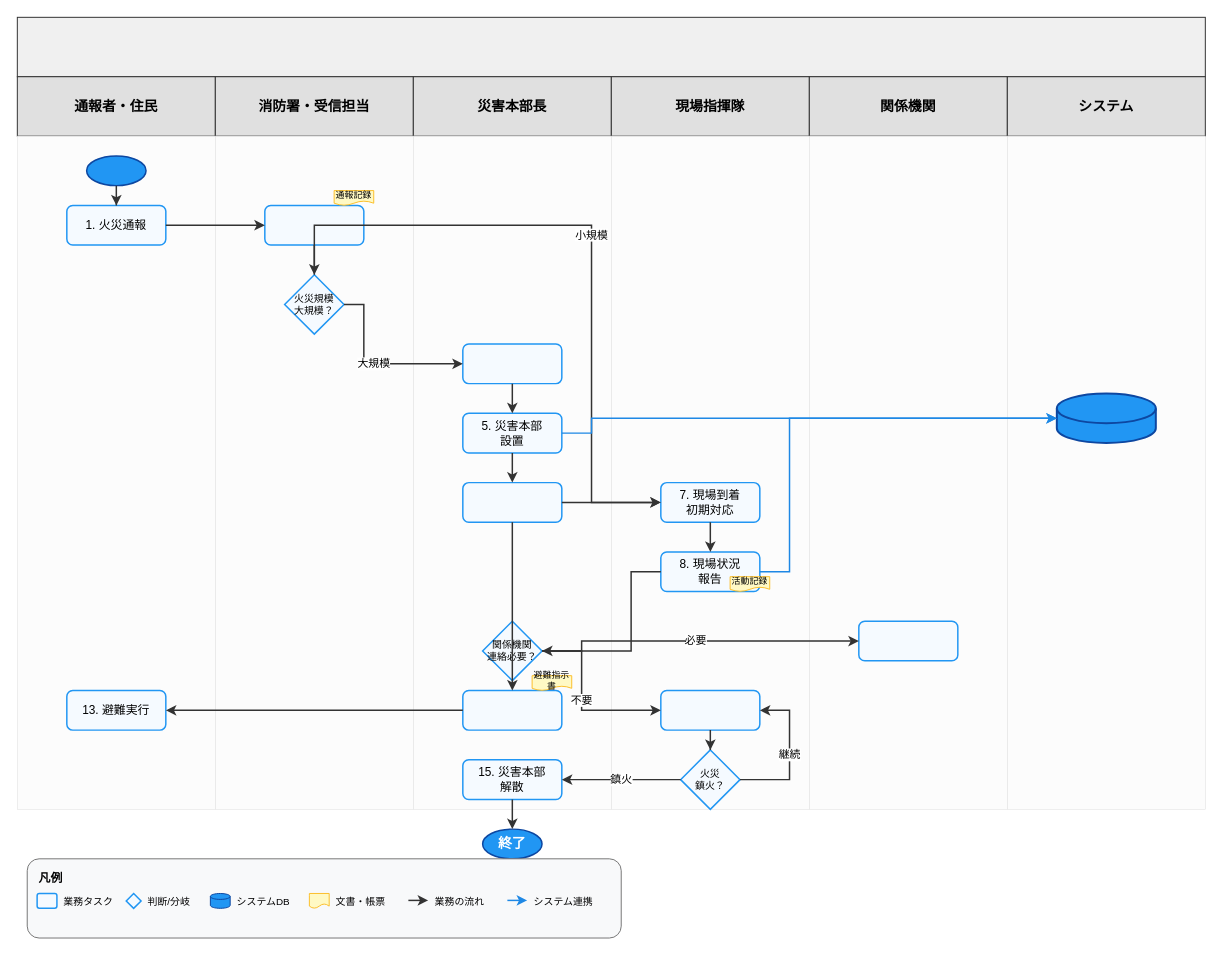
This 1223x955 diagram has some shape labels left out. The centre of each missing label's shape, as x and y in pixels:
"10. 関係機関 連絡" goes at point 908,640.
"11. 消火活動" goes at point 710,709.
"12. 住民避難 指示" goes at point 512,709.
"2. 通報受信" goes at point 314,224.
"4. 災害本部 設置判断" goes at point 512,363.
"6. 現場出動 指示" goes at point 512,502.
"火災発生時災害本部業務フロー 作成日: 2025-01-24 災害対策本部" goes at point 610,46.
"災害情報 システム" goes at point 1105,418.
"開始" goes at point 115,170.
